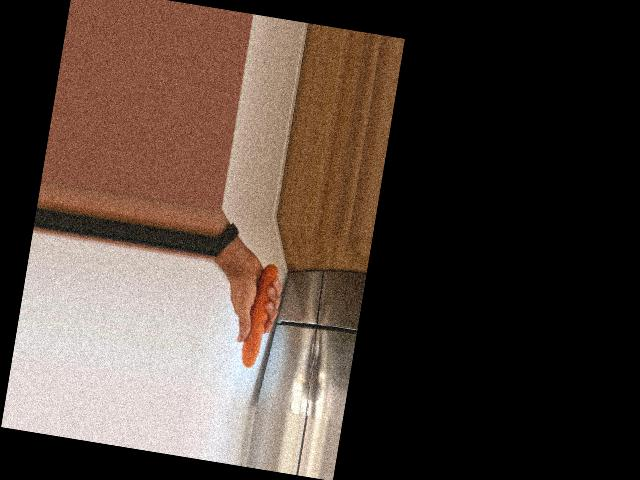carrot: (239, 259, 279, 369)
